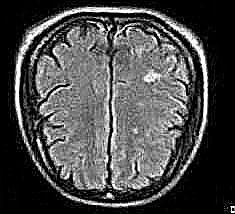Normal_Brain: (19, 6, 225, 199)
